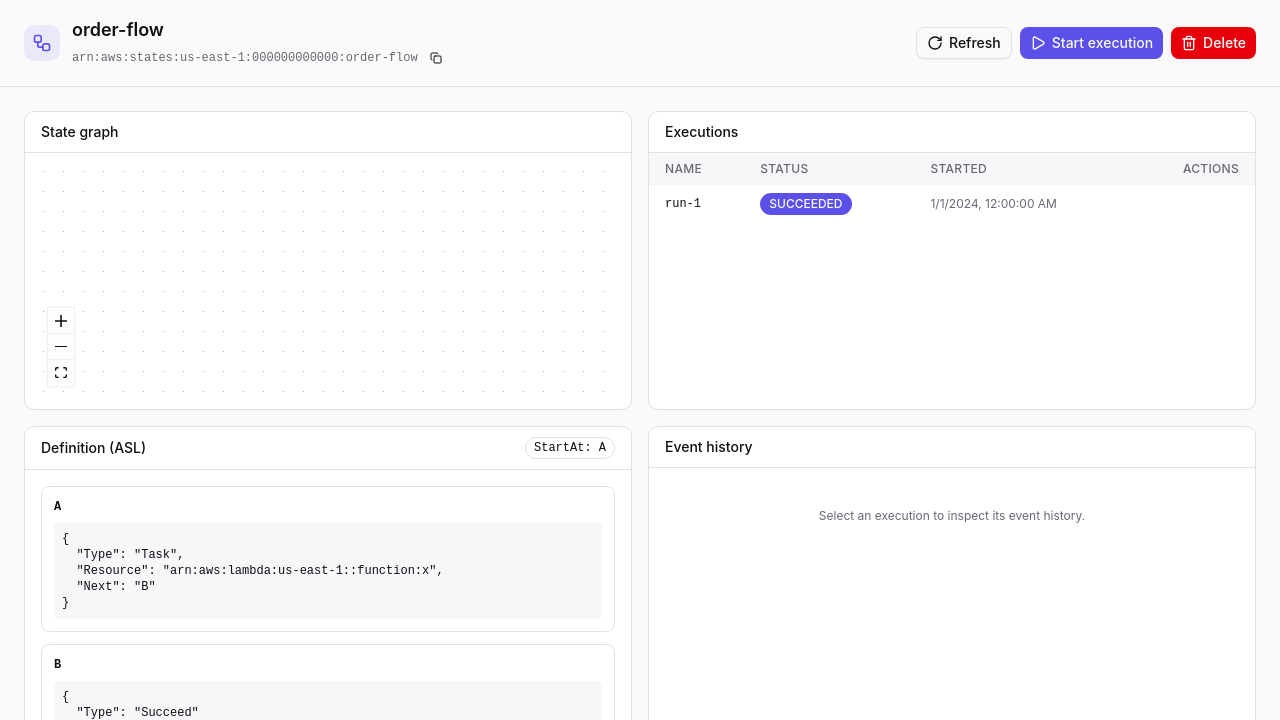
Test: StateMachineView › shows event history for a selected execution newest-last
This screenshot has width=1280, height=720.
Check: the text "Select an execution to inspect its event history." is shown, box [819,508,1085,523]
Click the text "run-1": (697,204) [649,185,744,223]
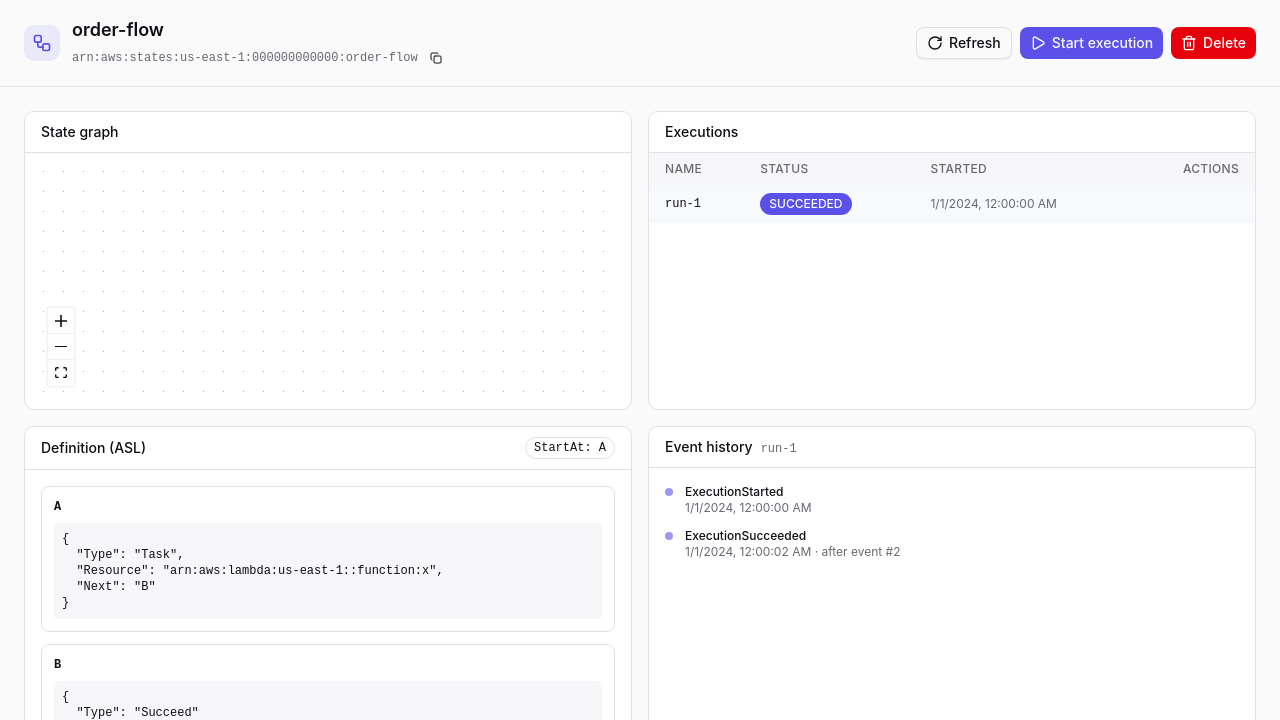
Check: the text "ExecutionStarted" is shown, box [685,484,783,499]
Check: the text "ExecutionSucceeded" is shown, box [685,528,806,543]
Check: the text "1/1/2024, 12:00:02 AM · after event #2" is shown, box [685,544,900,560]
